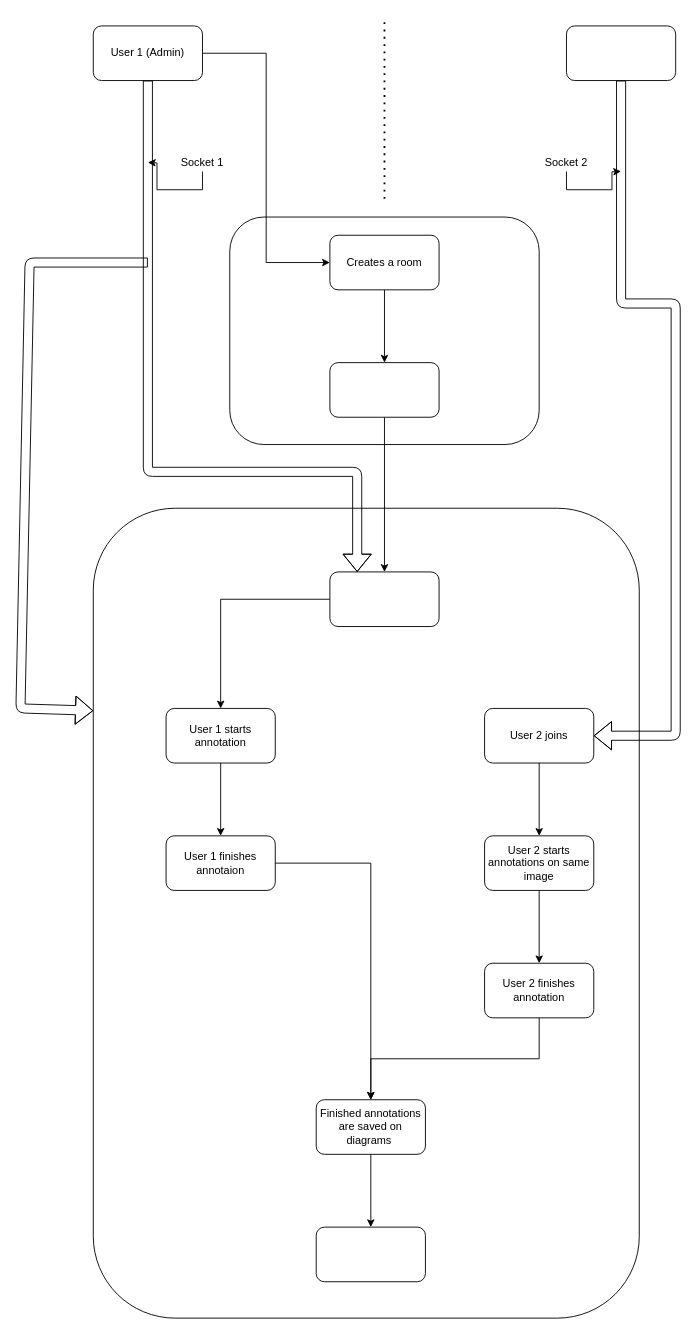
Some shapes in this 696 by 1334 pixel diagram are drawn without their labels. The shapes that lost their labels are listed below. From the top down, each one's centre as x and y in pixels, then its label:
At [621,53]: "User 2 (non admin, but with access granted by admin)".
At [384,389]: "Selects users who can access".
At [384,599]: "Room is loaded".
At [370,1254]: "Both users can see all the saved annotations instantaneously".
